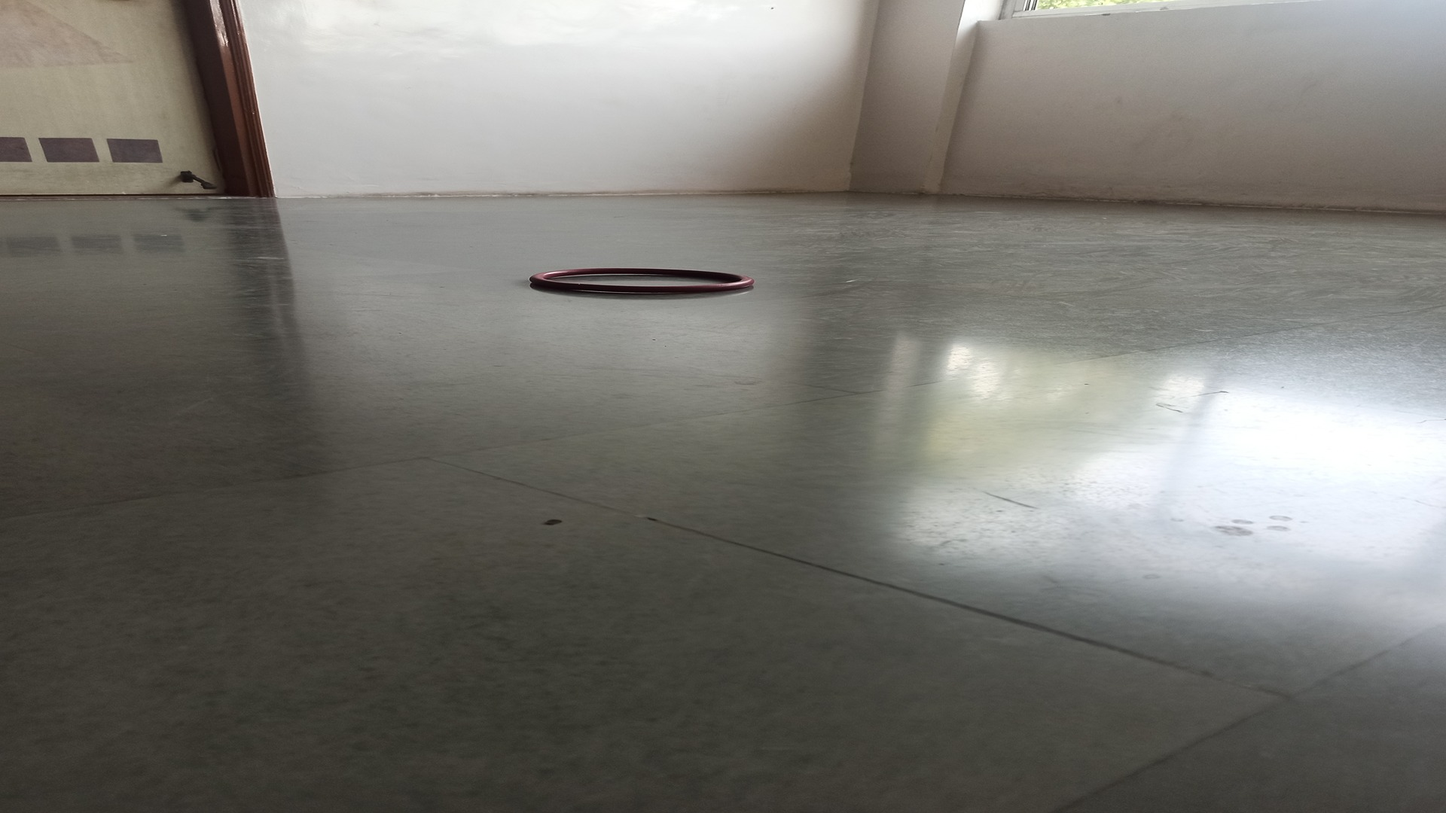Red ring: (525, 265, 755, 298)
